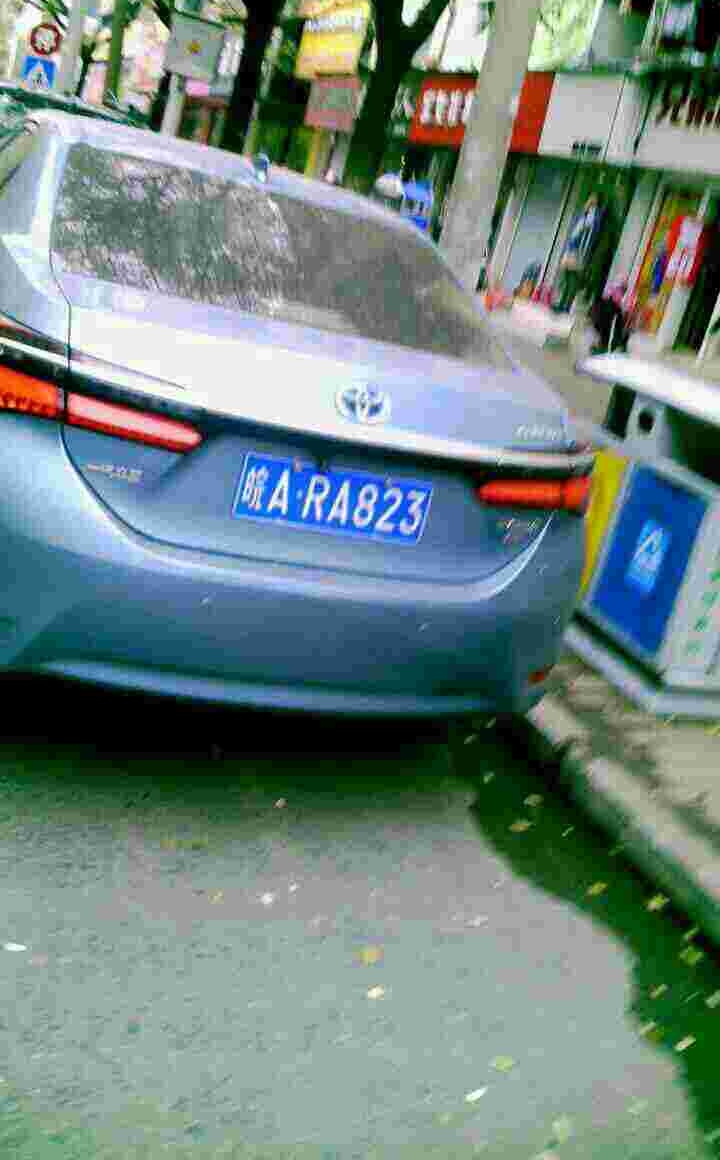plate: (233, 451, 444, 550)
